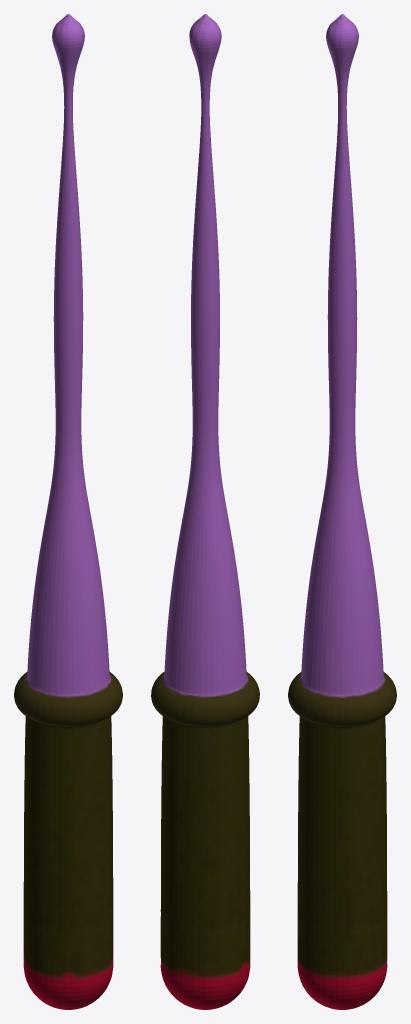
The model's file is wand.glb.
The picture shows the model from 3 angles, left to right: view 1: azimuth 90°, elevation 25°; view 2: azimuth 150°, elevation 25°; view 3: azimuth 270°, elevation 25°; orthographic projection.
Parts seen in each view (by area): view 1: wand; view 2: wand; view 3: wand.
Boxes of the visible parts, x1,y1,x2,y2 form: wand: (14,14,122,1009); wand: (151,14,259,1009); wand: (288,14,396,1009).
Size of the model in its own units: 0.1518 by 1.53 by 0.1518.
